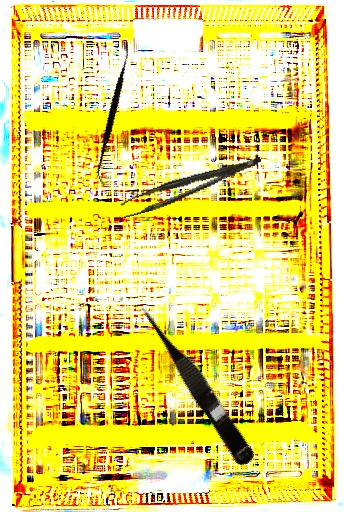Micro Scissor: (133, 297, 261, 469)
Spatula Surgical: (58, 40, 169, 187)
Tissue Forceps: (117, 156, 267, 219)
